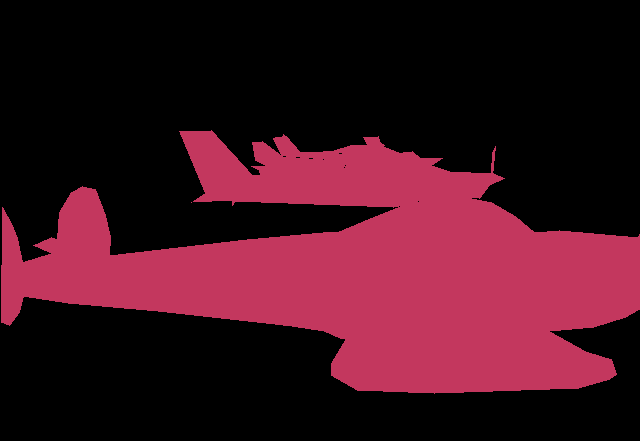Airplane: (1, 186, 639, 394), (179, 130, 504, 208), (251, 141, 400, 176), (273, 134, 384, 160)
